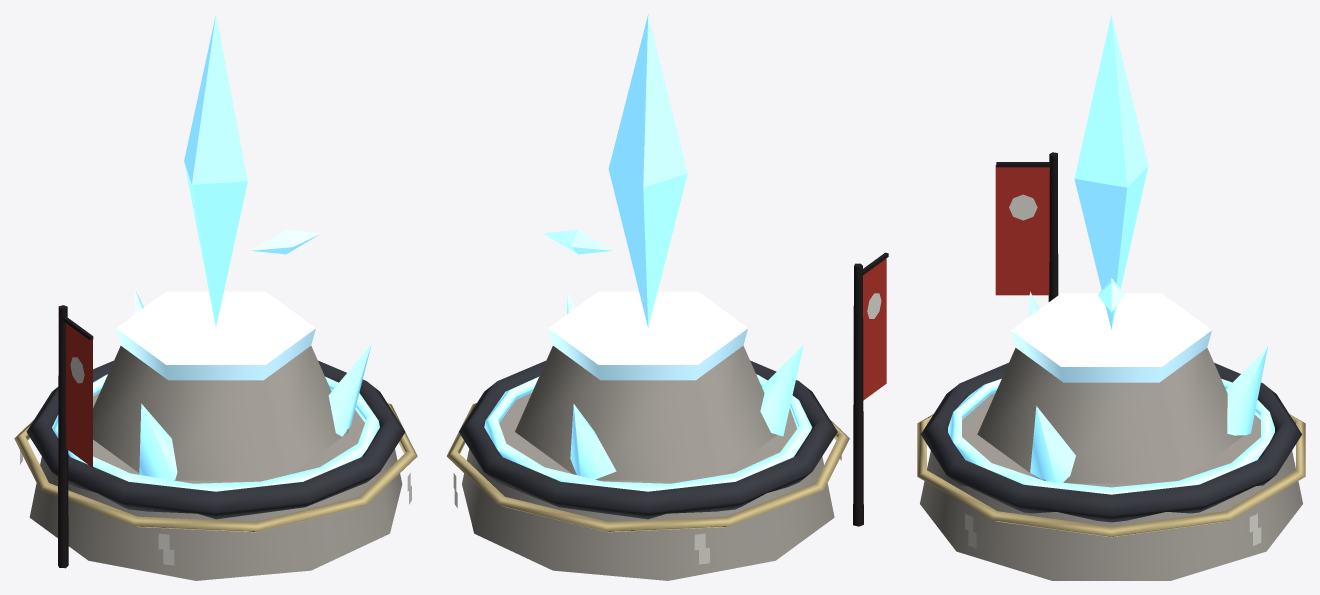
File: tower_freeze.glb
3 views of the same model, side by side, from view 1: azimuth 30°, elevation 25°; view 2: azimuth 150°, elevation 25°; view 3: azimuth 270°, elevation 25° (orthographic).
Parts seen in each view (by area): view 1: pedestal, base, pedestal_frost, base_rim, crystal, deco_shimenawa_rope, aura_ring, deco_nobori_cloth, deco_nobori_pole, side_crystal_1, side_crystal_0, emitter; view 2: pedestal, base, pedestal_frost, base_rim, crystal, deco_shimenawa_rope, aura_ring, deco_nobori_pole, deco_nobori_cloth, side_crystal_1, side_crystal_2, emitter; view 3: base, pedestal, pedestal_frost, base_rim, crystal, deco_nobori_cloth, deco_shimenawa_rope, aura_ring, side_crystal_0, side_crystal_2, deco_nobori_pole, deco_nobori_mon (+1 smaller).
Boxes of the visible parts, <box> form: pedestal: <box>93,346,349,480</box>; base: <box>29,392,402,580</box>; pedestal_frost: <box>116,291,315,380</box>; base_rim: <box>26,360,405,519</box>; crystal: <box>184,15,247,326</box>; deco_shimenawa_rope: <box>14,403,417,532</box>; aura_ring: <box>52,374,379,491</box>; deco_nobori_cloth: <box>66,323,92,467</box>; deco_nobori_pole: <box>58,305,68,568</box>; side_crystal_1: <box>139,403,177,480</box>; side_crystal_0: <box>328,344,371,436</box>; emitter: <box>251,229,321,254</box>; pedestal: <box>515,345,776,480</box>; base: <box>462,392,834,580</box>; pedestal_frost: <box>548,291,747,380</box>; base_rim: <box>459,360,837,519</box>; crystal: <box>608,14,687,327</box>; deco_shimenawa_rope: <box>446,403,849,532</box>; aura_ring: <box>484,374,812,491</box>; deco_nobori_pole: <box>853,263,863,526</box>; deco_nobori_cloth: <box>863,258,886,400</box>; side_crystal_1: <box>760,344,803,436</box>; side_crystal_2: <box>570,404,616,479</box>; emitter: <box>543,229,613,254</box>; base: <box>920,393,1302,580</box>; pedestal: <box>977,348,1243,483</box>; pedestal_frost: <box>1011,293,1211,382</box>; base_rim: <box>921,362,1301,522</box>; crystal: <box>1074,14,1148,329</box>; deco_nobori_cloth: <box>995,165,1049,295</box>; deco_shimenawa_rope: <box>917,414,1305,537</box>; aura_ring: <box>948,378,1274,494</box>; side_crystal_0: <box>1030,406,1075,482</box>; side_crystal_2: <box>1226,346,1267,435</box>; deco_nobori_pole: <box>1048,152,1058,301</box>; deco_nobori_mon: <box>1009,194,1037,220</box>.
Size of the model in its own units: 0.4387 by 0.564 by 0.4052.
